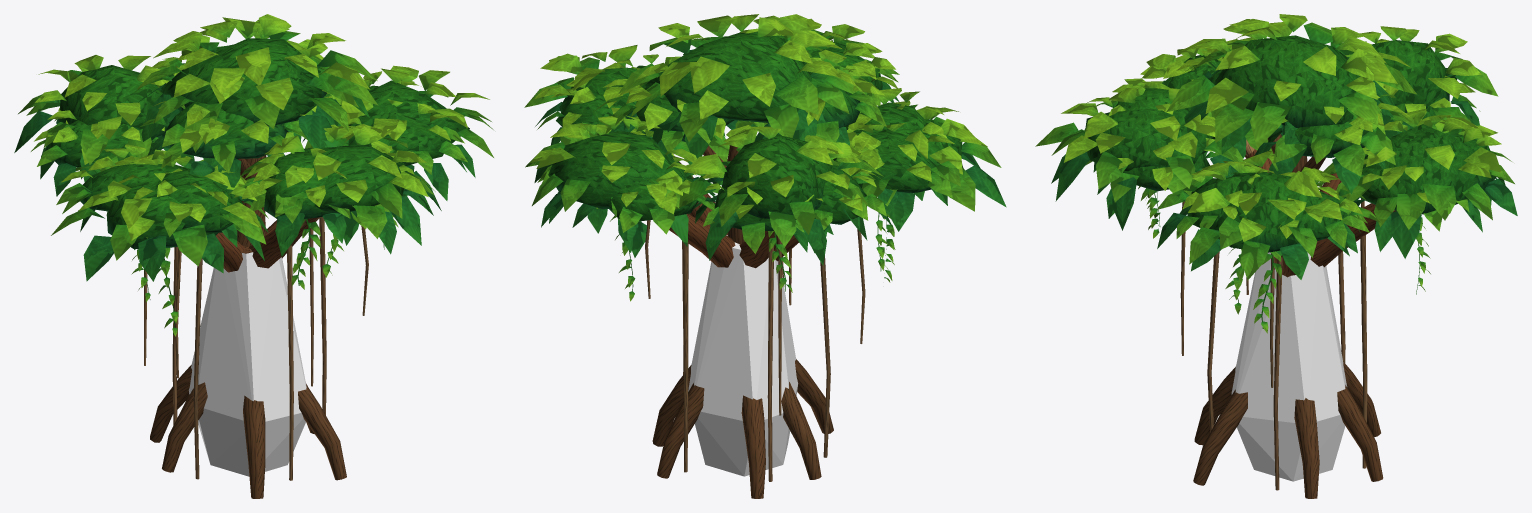
File: jungle_banyan.glb
The picture shows the model from 3 angles, left to right: view 1: azimuth 30°, elevation 25°; view 2: azimuth 150°, elevation 25°; view 3: azimuth 270°, elevation 25°; orthographic projection.
Parts seen in each view (by area): view 1: BanyanCanopy, col_banyan_trunk, BanyanWood; view 2: BanyanCanopy, col_banyan_trunk, BanyanWood; view 3: BanyanCanopy, col_banyan_trunk, BanyanWood.
Part boxes in pixels (<box>): BanyanCanopy: <box>14,14,493,336</box>; col_banyan_trunk: <box>188,252,306,476</box>; BanyanWood: <box>144,155,368,498</box>; BanyanCanopy: <box>524,14,1006,301</box>; col_banyan_trunk: <box>688,235,798,476</box>; BanyanWood: <box>645,145,865,498</box>; BanyanCanopy: <box>1035,14,1517,333</box>; col_banyan_trunk: <box>1231,252,1347,481</box>; BanyanWood: <box>1180,128,1396,498</box>.
Bounding box in the file's own units: 12.09 × 11.15 × 11.34.
3 materials, 2 textured.
